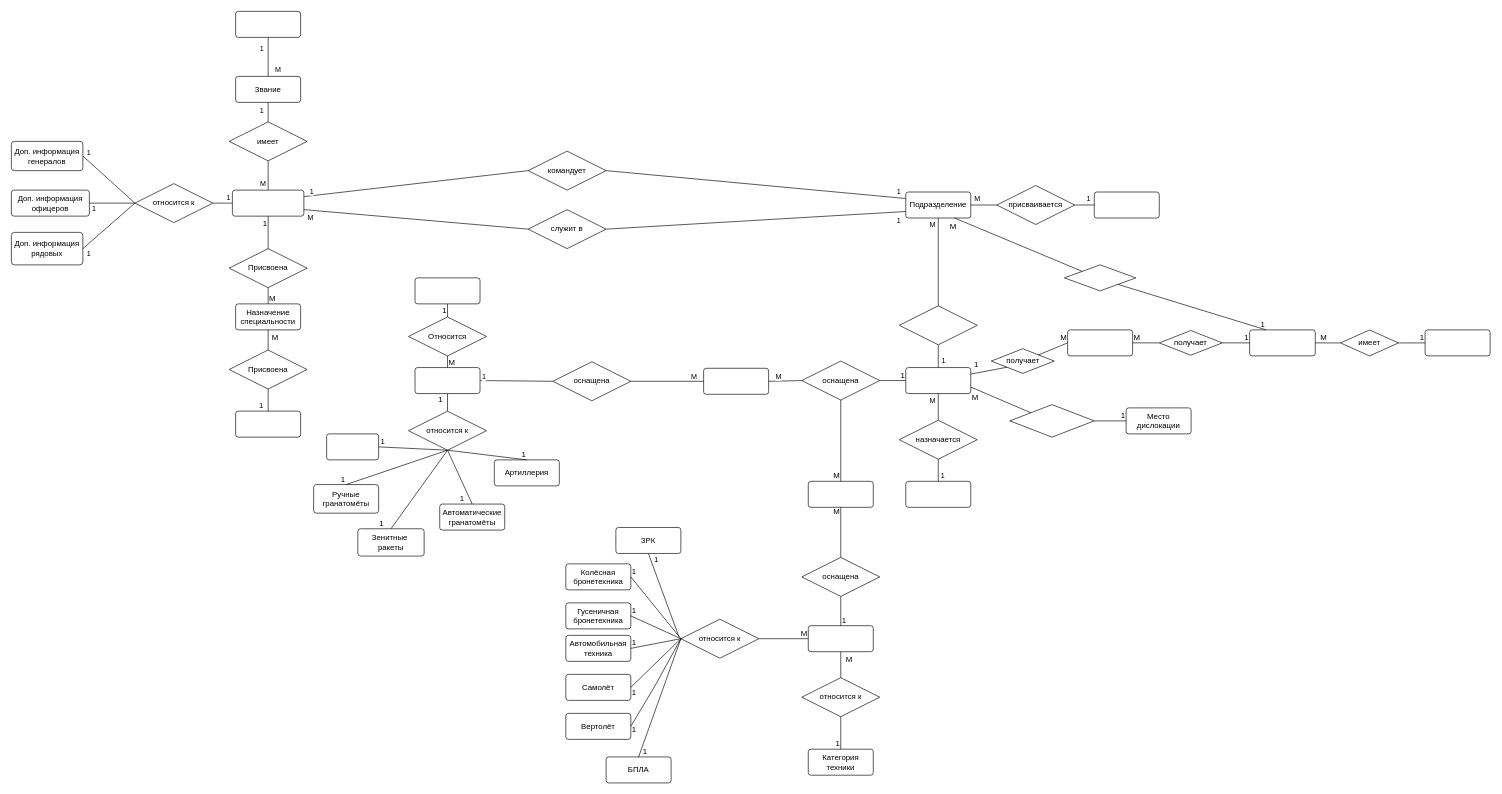
Image size: 1502x794. Some labels were removed from this diagram. Each missing label, with the centre of its shape:
Вид войск: the point at 938,494
Военнослужащий: the point at 268,202
Воинская часть: the point at 938,380
Вооружение: the point at 447,380
Закрепление сооружения: the point at 1100,342
Категория вооружения: the point at 447,290
Категория звания: the point at 268,24
Предоставление вооружения: the point at 736,381
Предоставление техники: the point at 840,494
располагается: the point at 1100,277
располагается в: the point at 1051,420
Сооружение: the point at 1282,342
состоит из: the point at 938,325
Специальность: the point at 268,423
Стрелковое оружие: the point at 352,446
Техника: the point at 840,638
Тип подразделения: the point at 1126,204
Тип сооружения: the point at 1457,342
